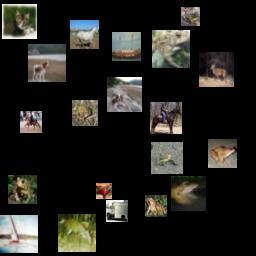bird: (151, 142, 183, 174)
cat: (2, 4, 37, 39)
deer: (58, 214, 96, 252), (199, 52, 234, 87)
dog: (28, 44, 66, 82), (107, 77, 142, 112)
frog: (152, 30, 190, 68), (171, 176, 206, 211), (8, 175, 37, 204), (208, 139, 237, 168), (72, 100, 98, 126), (145, 195, 167, 217), (181, 7, 200, 26), (96, 183, 112, 199)
ship: (0, 215, 38, 253), (112, 32, 141, 61)
truck: (106, 200, 128, 222)
